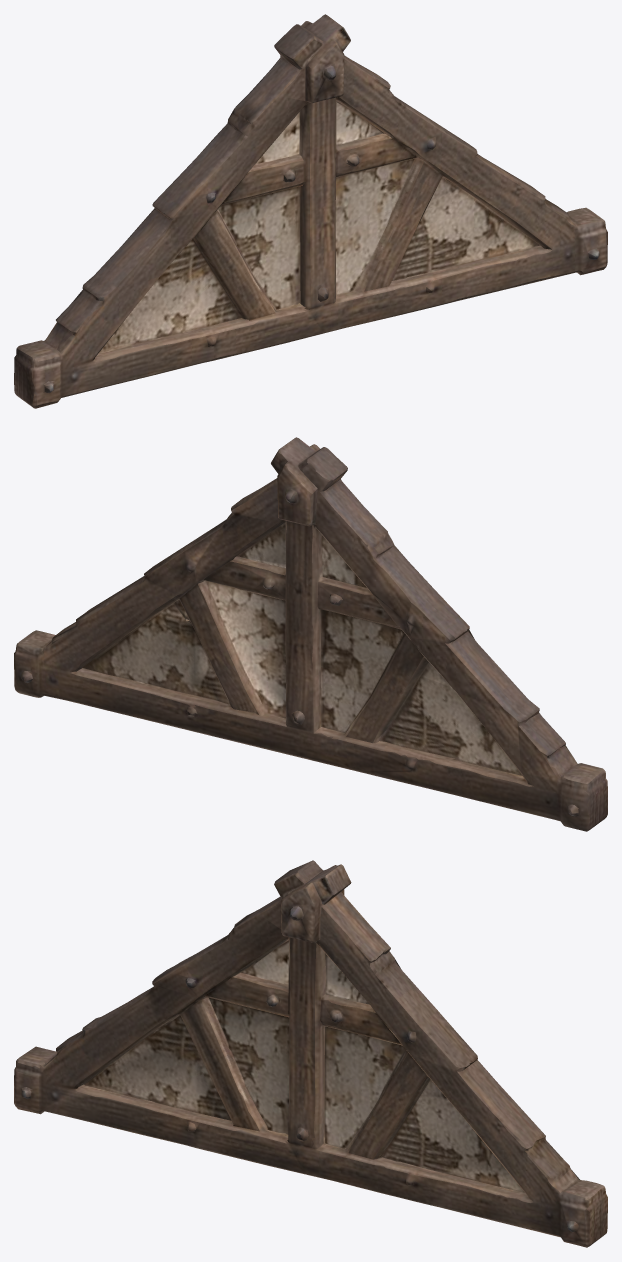
3 views of the same model, one above another, from view 1: azimuth 30°, elevation 25°; view 2: azimuth 150°, elevation 25°; view 3: azimuth 330°, elevation 25° (orthographic).
Parts seen in each view (by area): view 1: geometry_0; view 2: geometry_0; view 3: geometry_0.
Boxes of the visible parts, <box> form: geometry_0: <box>14,14,607,408</box>; geometry_0: <box>14,437,607,831</box>; geometry_0: <box>14,860,607,1247</box>.
Size of the model in its own units: 2.5 by 1.27 by 0.3191.
Materials: 1 (1 with a texture image).
